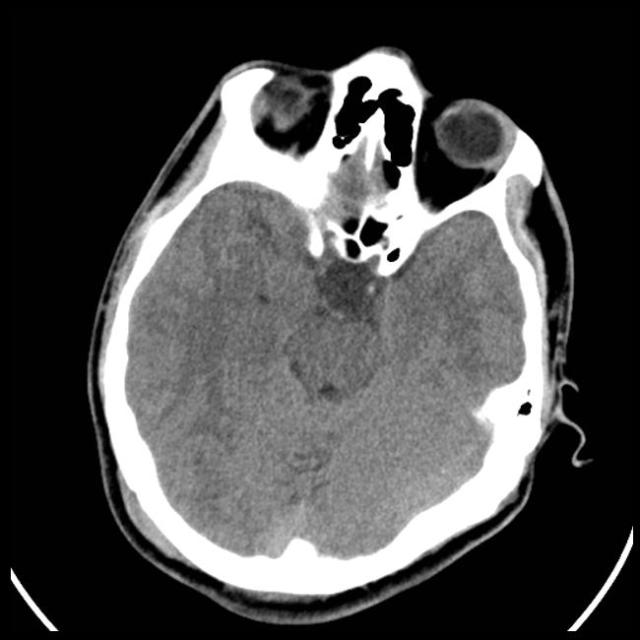lesion: (86, 44, 590, 614)
